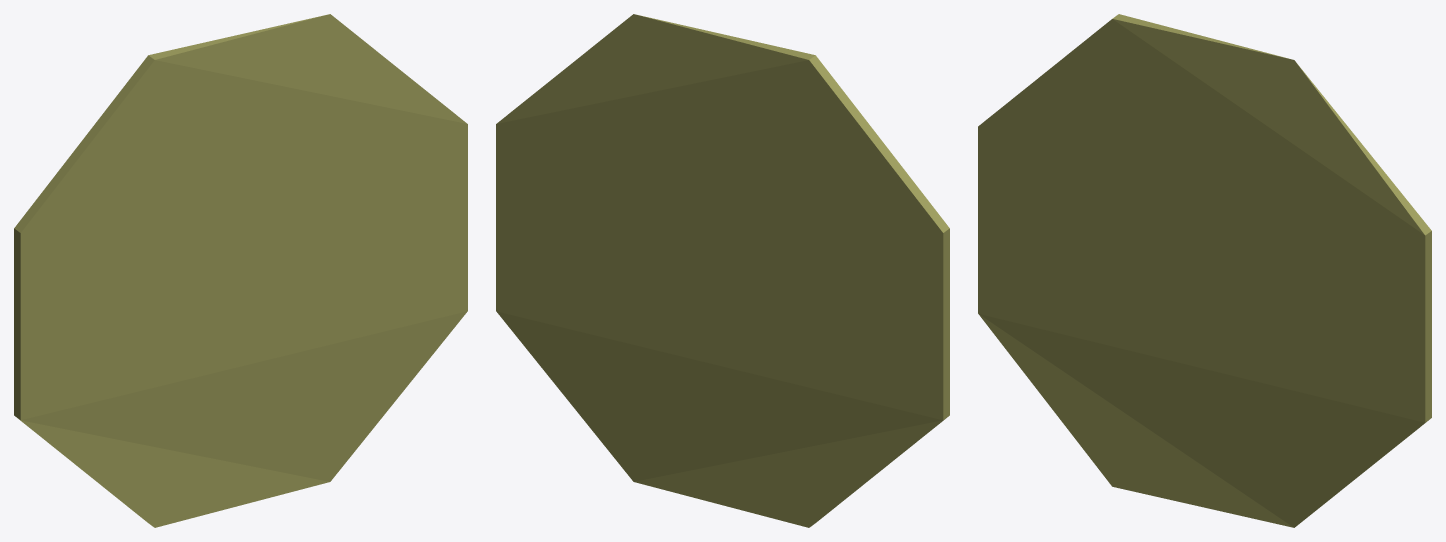
The model's file is OBJ_Greg the stop sign (100x100).obj.
The picture shows the model from 3 angles, left to right: view 1: azimuth 30°, elevation 25°; view 2: azimuth 150°, elevation 25°; view 3: azimuth 330°, elevation 25°; orthographic projection.
Bounding box in the file's own units: 393 × 393 × 10.
